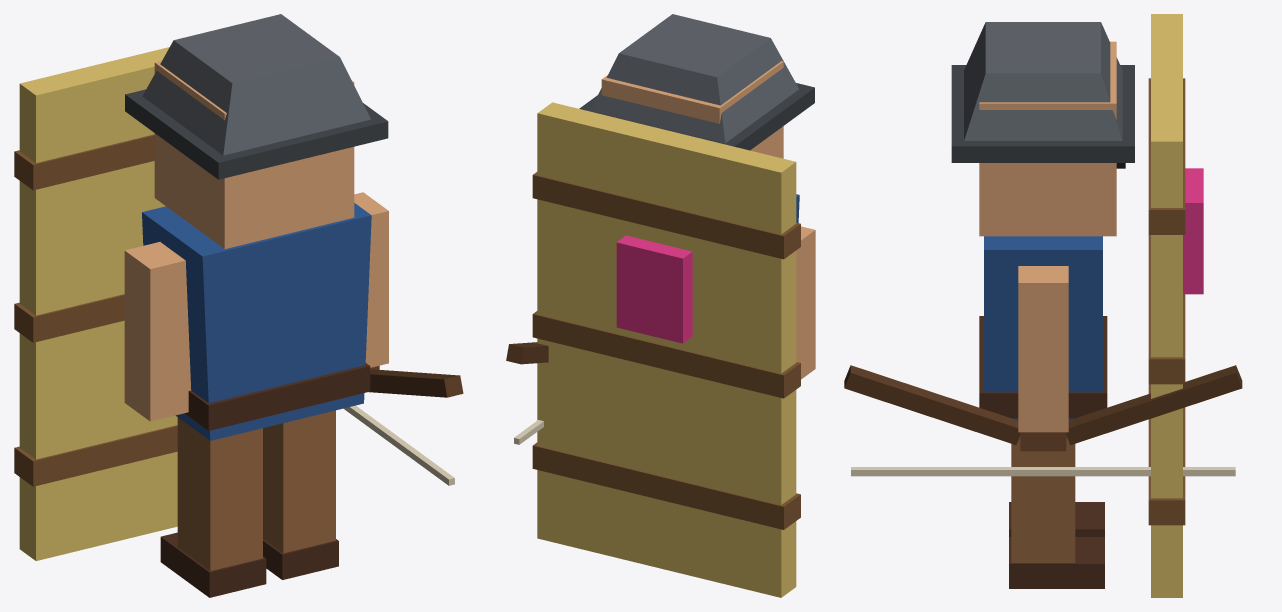
The model's file is EN_ShieldArcher.fbx.
The picture shows the model from 3 angles, left to right: view 1: azimuth 30°, elevation 25°; view 2: azimuth 150°, elevation 25°; view 3: azimuth 270°, elevation 25°; orthographic projection. The views are drawn at different scales.
Parts seen in each view (by area): view 1: Shield, Body, Cap, Head, LegL, ArmL, LegR, Brim, Belt, Band0, Band2, ArmR (+5 smaller); view 2: Shield, Cap, Boss, Band2, Band0, Band1, Head, ArmL, Brim, LimbF; view 3: Cap, Shield, Body, Head, ArmR, LegR, Brim, LimbB, LimbF, String, FootR, Belt (+6 smaller).
Boxes of the visible parts, left/top/right/bottom form: Shield: left=19, top=47, right=177, bottom=560; Body: left=142, top=203, right=371, bottom=440; Cap: left=142, top=14, right=370, bottom=155; Head: left=154, top=61, right=354, bottom=248; LegL: left=177, top=417, right=262, bottom=570; ArmL: left=124, top=242, right=191, bottom=421; LegR: left=263, top=410, right=335, bottom=553; Brim: left=125, top=89, right=388, bottom=179; Belt: left=185, top=363, right=370, bottom=430; Band0: left=14, top=425, right=177, bottom=486; Band2: left=14, top=134, right=154, bottom=190; ArmR: left=354, top=192, right=388, bottom=367; Shield: left=537, top=102, right=796, bottom=597; Cap: left=590, top=14, right=798, bottom=143; Boss: left=616, top=235, right=692, bottom=343; Band2: left=532, top=172, right=800, bottom=259; Band0: left=532, top=442, right=800, bottom=529; Band1: left=532, top=311, right=800, bottom=398; Head: left=601, top=61, right=783, bottom=158; ArmL: left=796, top=226, right=815, bottom=379; Brim: left=579, top=83, right=814, bottom=150; LimbF: left=506, top=342, right=548, bottom=364; Cap: left=964, top=22, right=1122, bottom=140; Shield: left=1151, top=14, right=1182, bottom=597; Body: left=984, top=236, right=1102, bottom=420; Head: left=979, top=41, right=1116, bottom=236; ArmR: left=1018, top=266, right=1068, bottom=432; LegR: left=1011, top=436, right=1075, bottom=562; Brim: left=951, top=65, right=1134, bottom=162; LimbB: left=844, top=365, right=1020, bottom=444; LimbF: left=1066, top=365, right=1242, bottom=445; String: left=851, top=467, right=1235, bottom=476; FootR: left=1009, top=537, right=1104, bottom=588; Belt: left=979, top=316, right=1107, bottom=418.
Bounding box in the file's own units: 0.715 × 0.9247 × 1.23.
